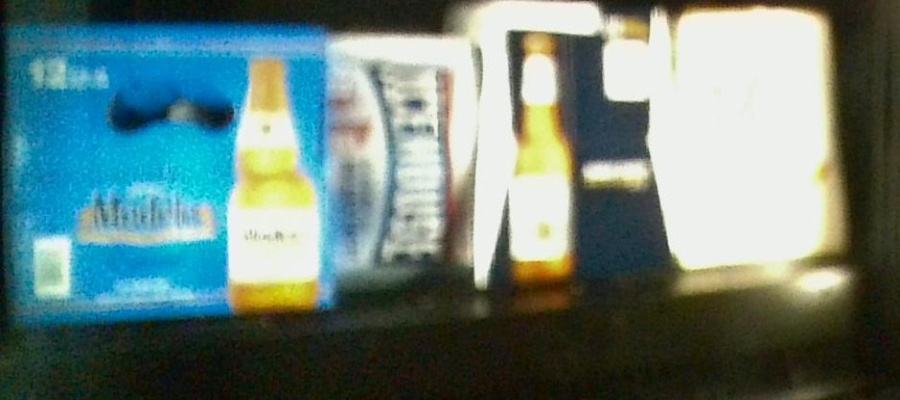bottle: (4, 27, 334, 317), (474, 2, 661, 275), (676, 3, 847, 273), (330, 28, 473, 282)
